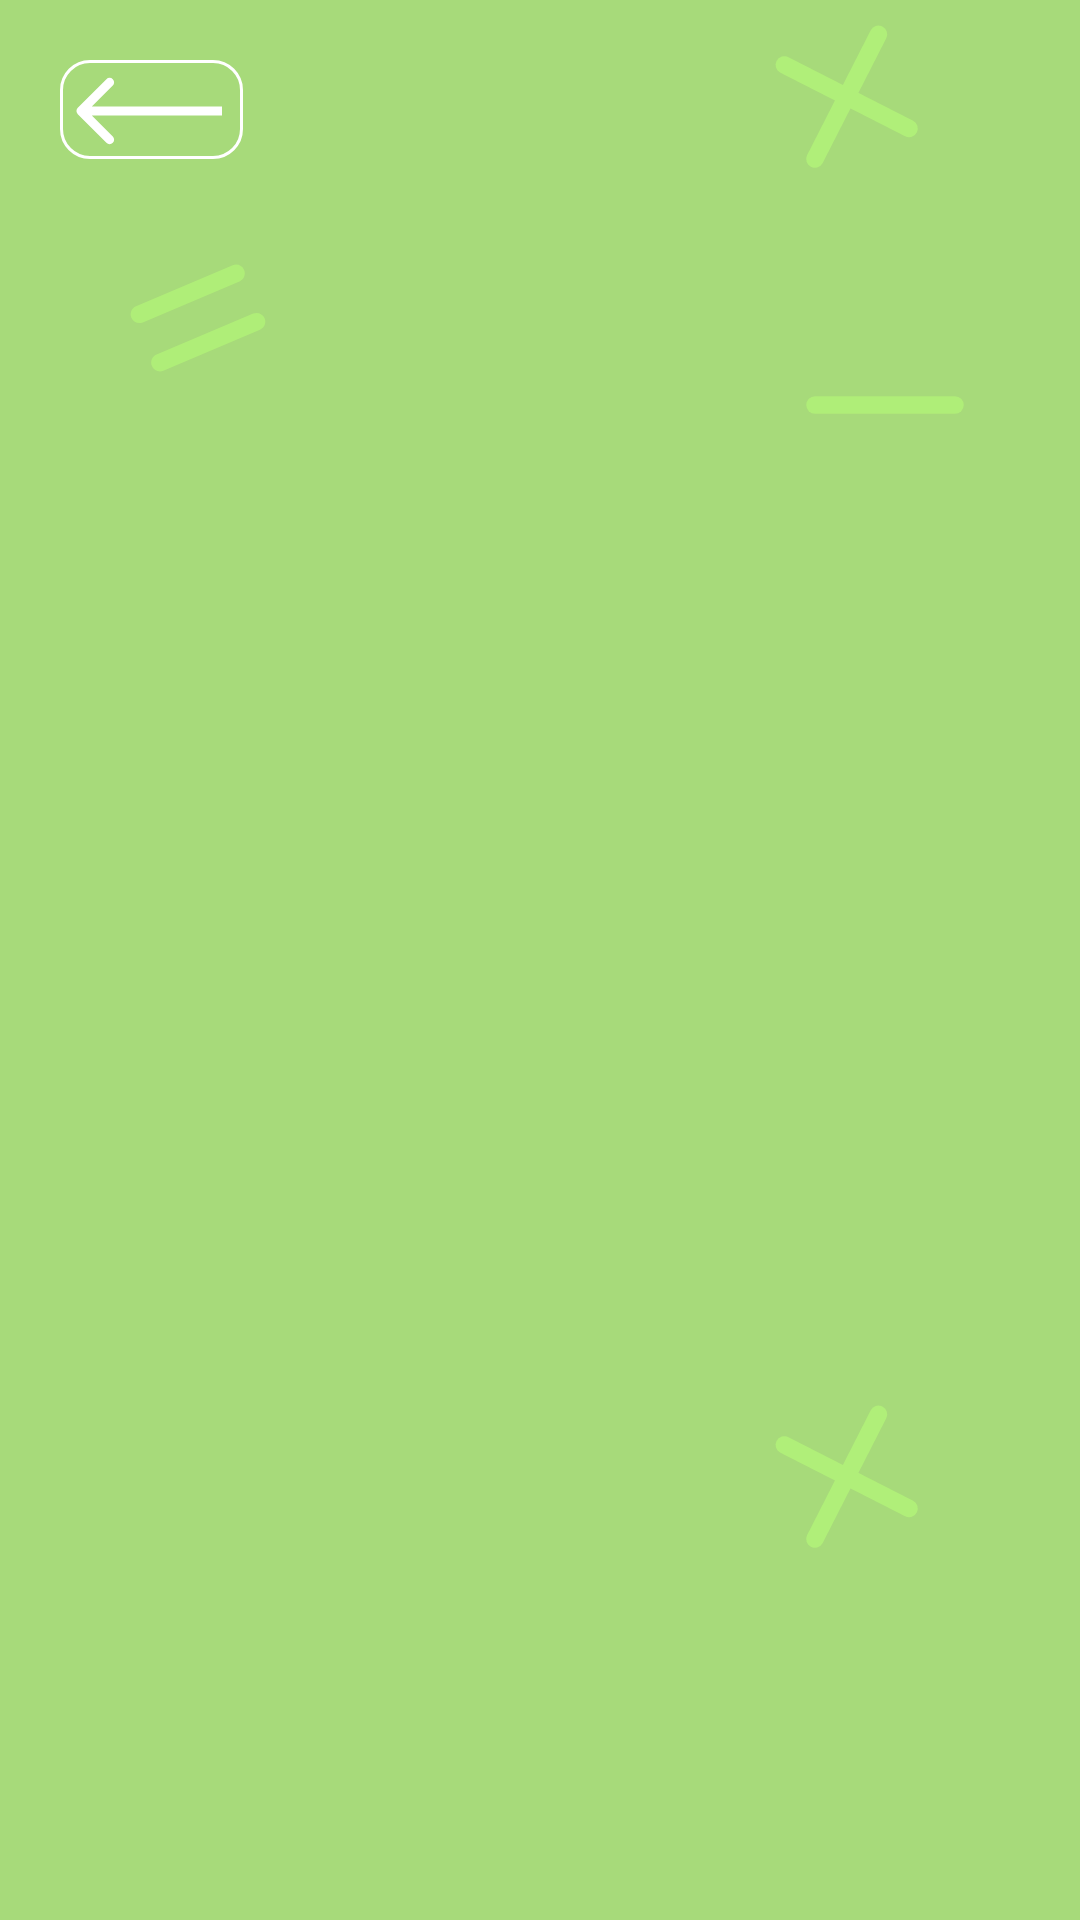

Screen size 1080px x 1920px. Icon name, then its box in pixels as (x1,y1,x2,y2):
backwardarrow: (60,60,243,159)
